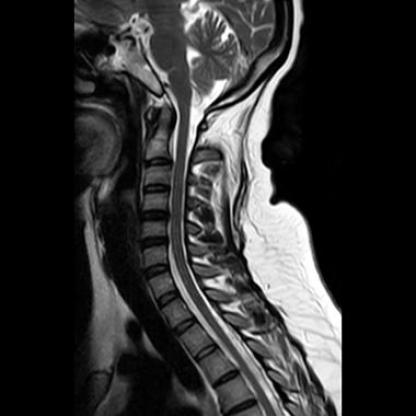Degenerative Disc Diseaserotation: (140, 210, 171, 224), (141, 235, 168, 250)
Disc Bulgerotation: (140, 209, 172, 224), (141, 235, 168, 250), (144, 157, 175, 170), (144, 184, 171, 197)
Osteophytesrotation: (141, 235, 168, 250)
